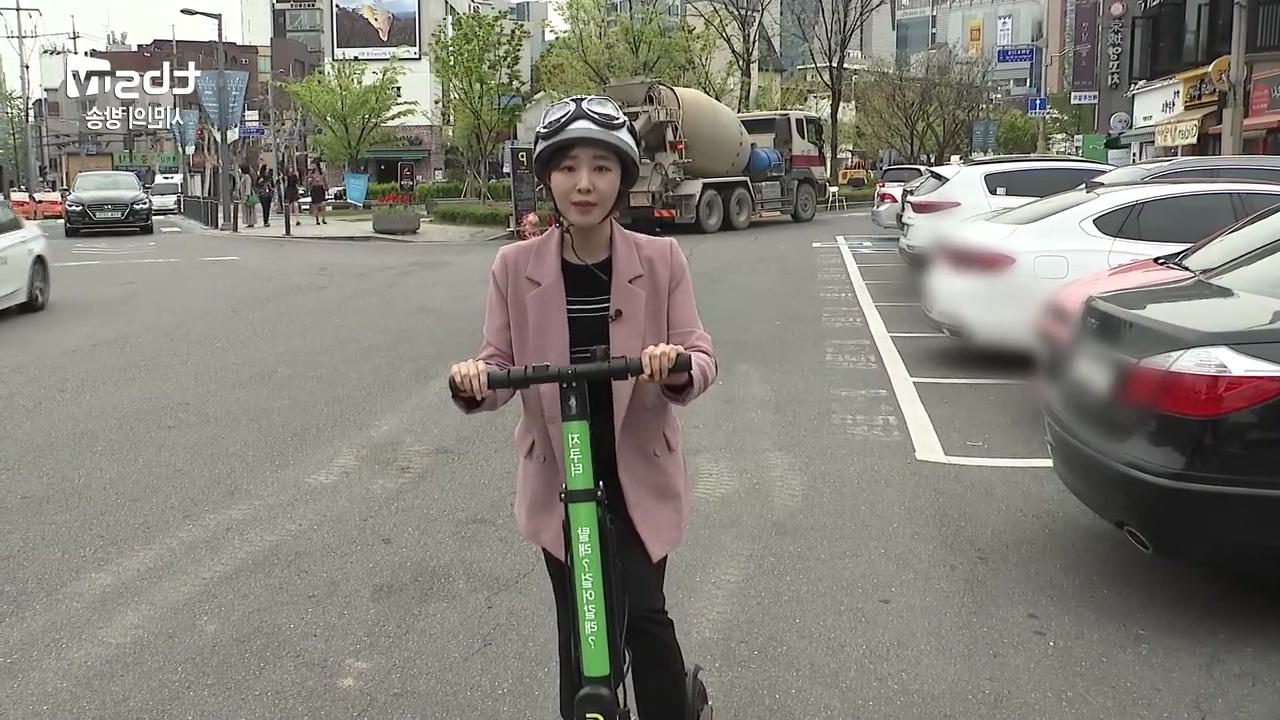helmet: (447, 94, 717, 720)
